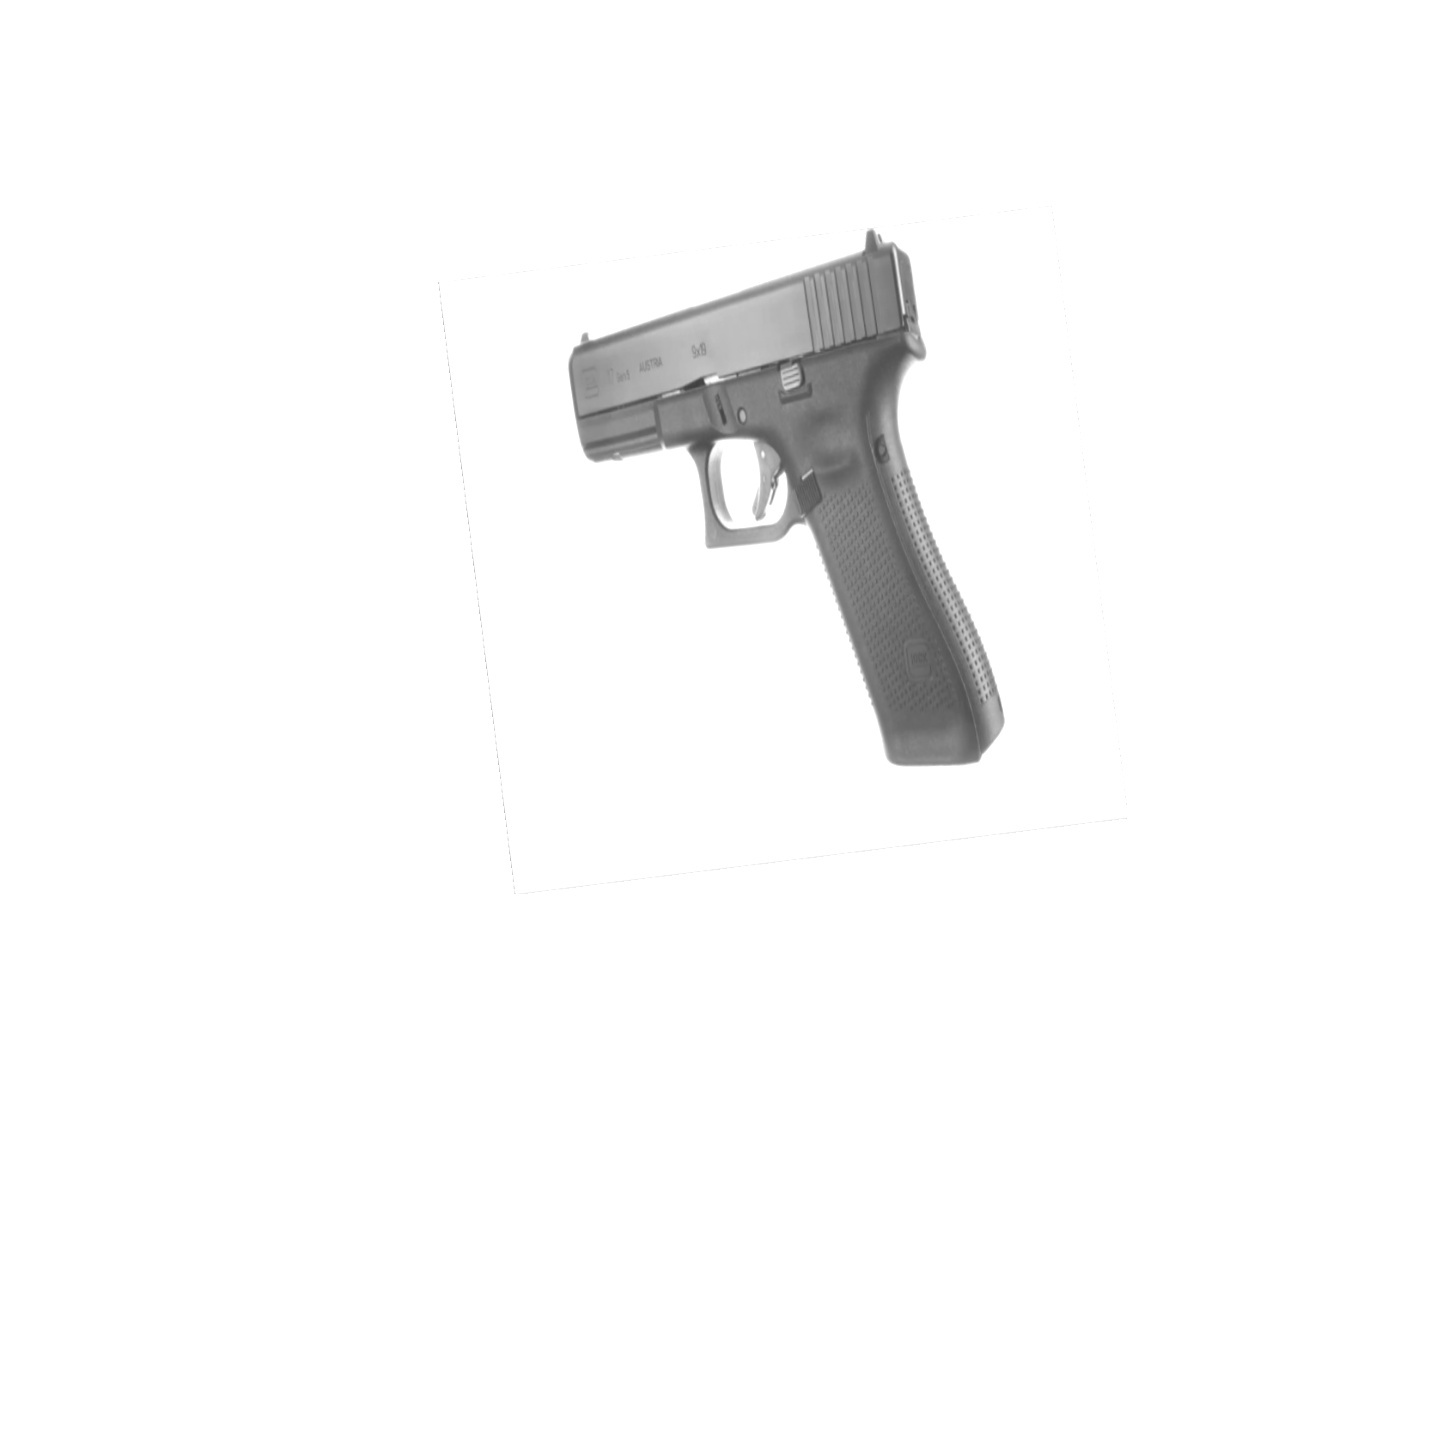gun: (570, 232, 1002, 764)
